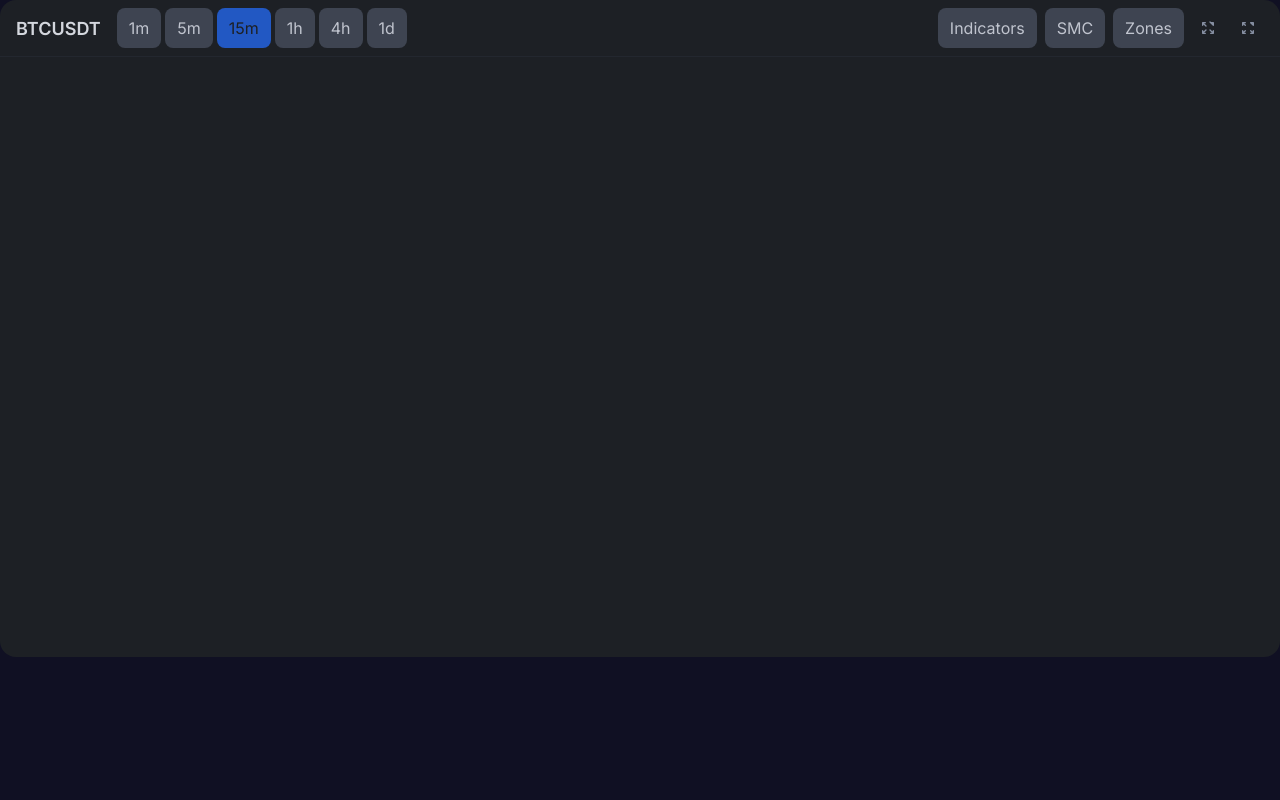
Test: Chart › zone overlays › should toggle zone overlay visibility
Click the button with test id "zone-overlay-toggle" at (1149, 28), box [1113,8,1184,48]
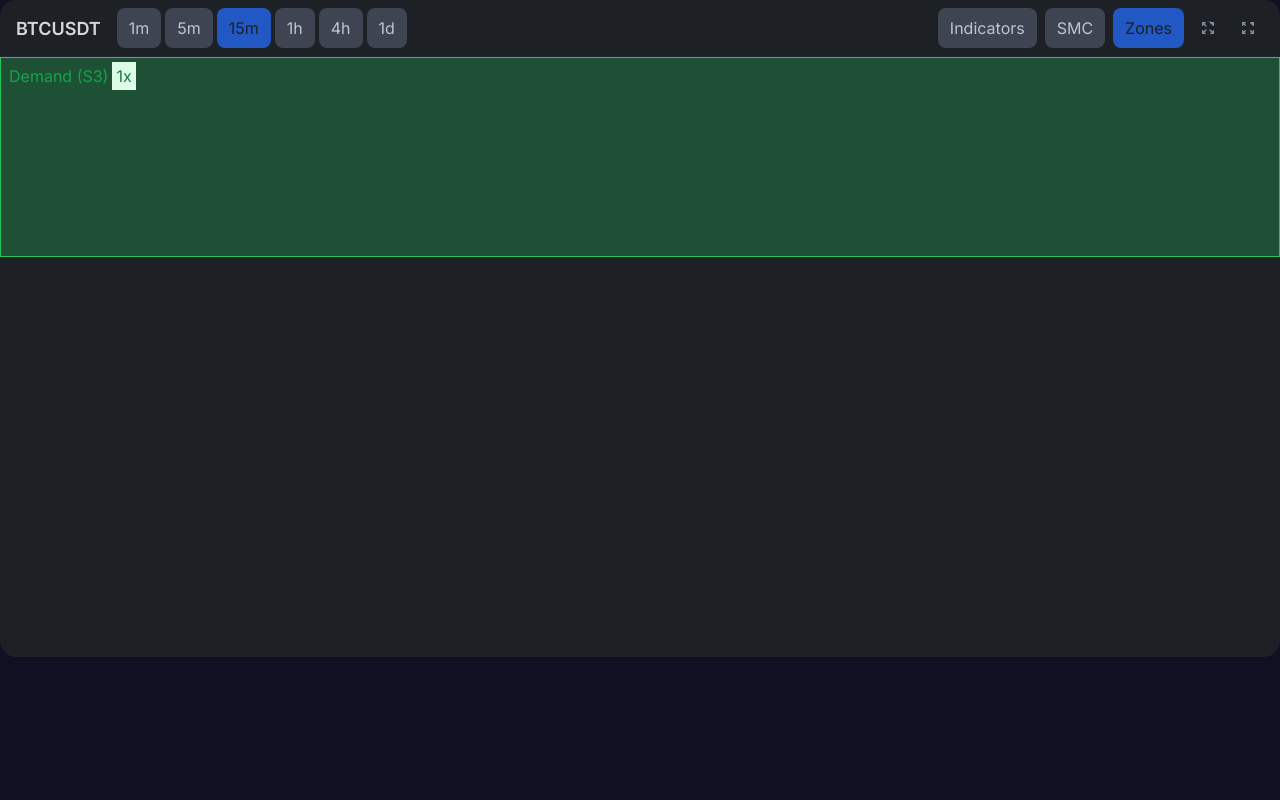
Result: the element with test id "zone-overlays" is shown at [0,57,1279,257]
